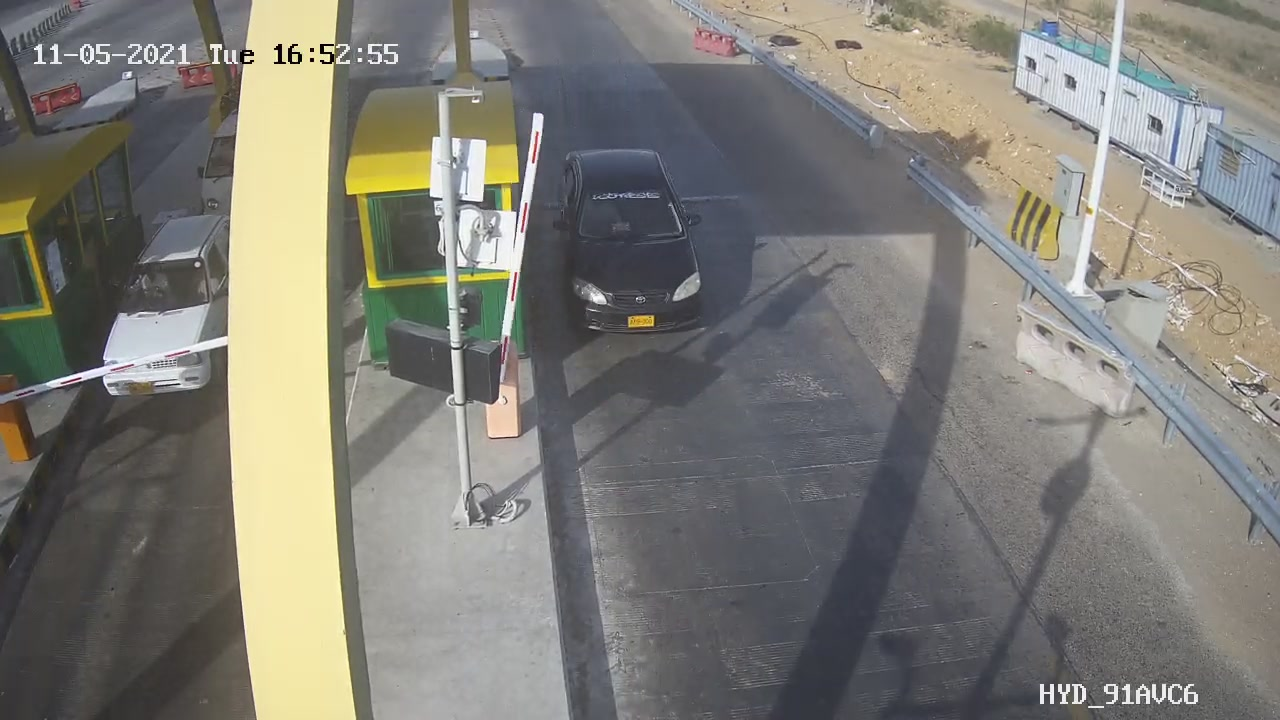F1: (530, 131, 735, 351)
